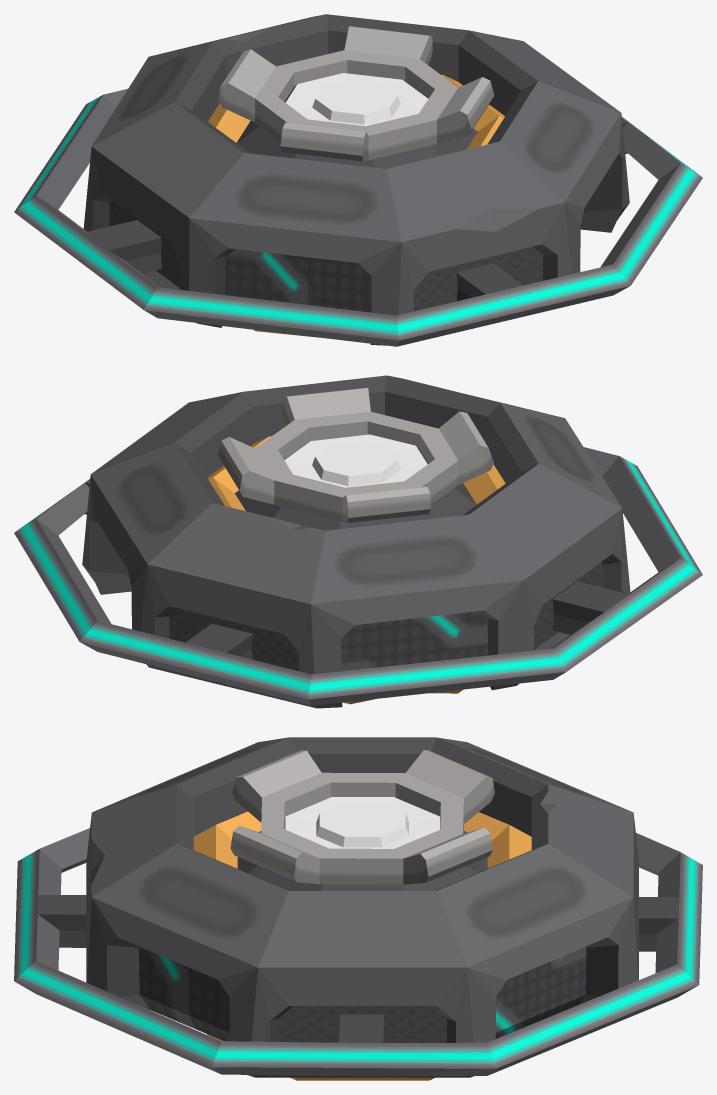
The model's file is SM_Prop_Hover_light_06.fbx.
The picture shows the model from 3 angles, top to bottom: view 1: azimuth 30°, elevation 25°; view 2: azimuth 150°, elevation 25°; view 3: azimuth 270°, elevation 25°; orthographic projection. The views are drawn at different scales.
Parts seen in each view (by area): view 1: SM_Prop_Hover_light_06; view 2: SM_Prop_Hover_light_06; view 3: SM_Prop_Hover_light_06.
Boxes of the visible parts, x1=… form: SM_Prop_Hover_light_06: x1=14, y1=14, x2=702, y2=346; SM_Prop_Hover_light_06: x1=14, y1=375, x2=702, y2=708; SM_Prop_Hover_light_06: x1=14, y1=737, x2=702, y2=1080.
Size of the model in its own units: 78.1 by 27.61 by 78.1.
